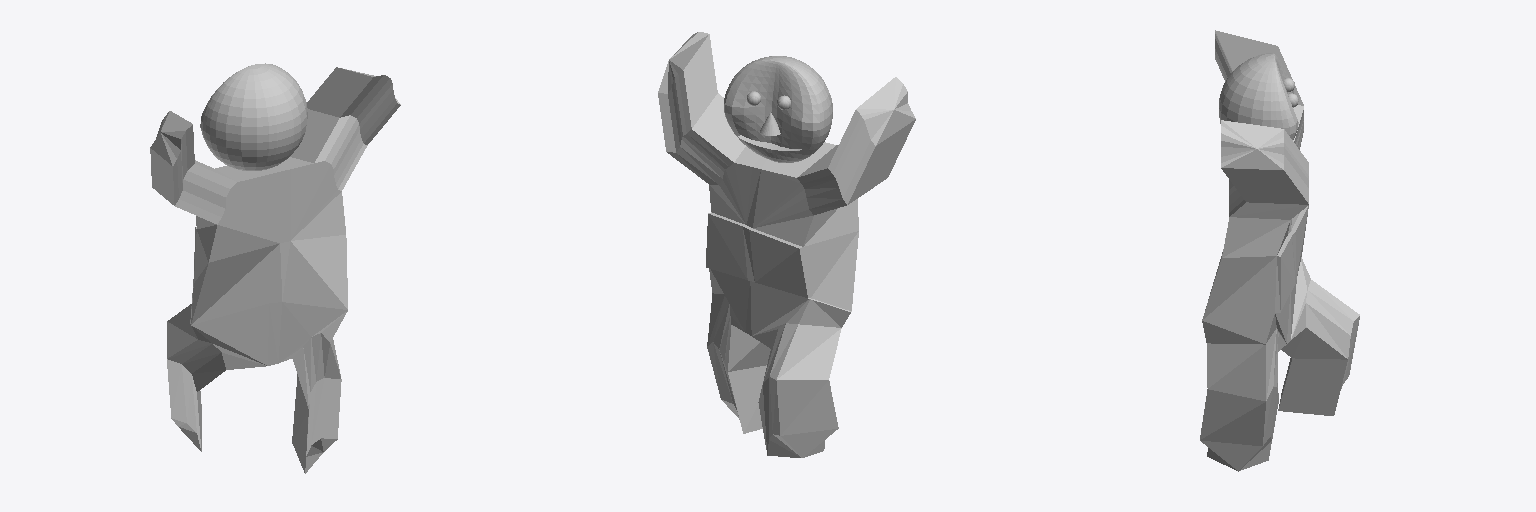
File: man_000024.obj
3 views of the same model, side by side, from view 1: azimuth 30°, elevation 25°; view 2: azimuth 150°, elevation 25°; view 3: azimuth 270°, elevation 25° (orthographic).
Visible parts, largest first — view 1: Cube; view 2: Cube; view 3: Cube.
Part boxes in pixels (left/top/right/bottom): Cube: left=150, top=63, right=400, bottom=473; Cube: left=658, top=32, right=915, bottom=457; Cube: left=1200, top=30, right=1359, bottom=471.
Size of the model in its own units: 79.08 by 127 by 47.58.